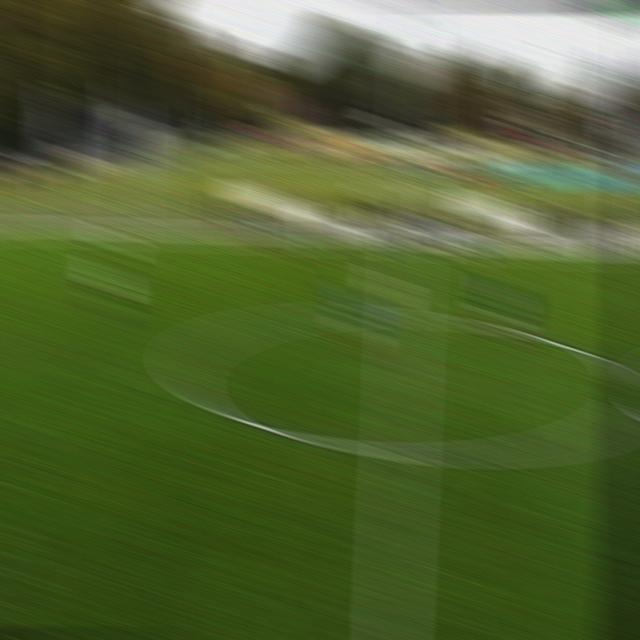halfcircle_bottom: (380, 434, 420, 478)
halfcircle_top: (389, 304, 423, 332)
midline_top_intersection: (393, 244, 422, 258)
